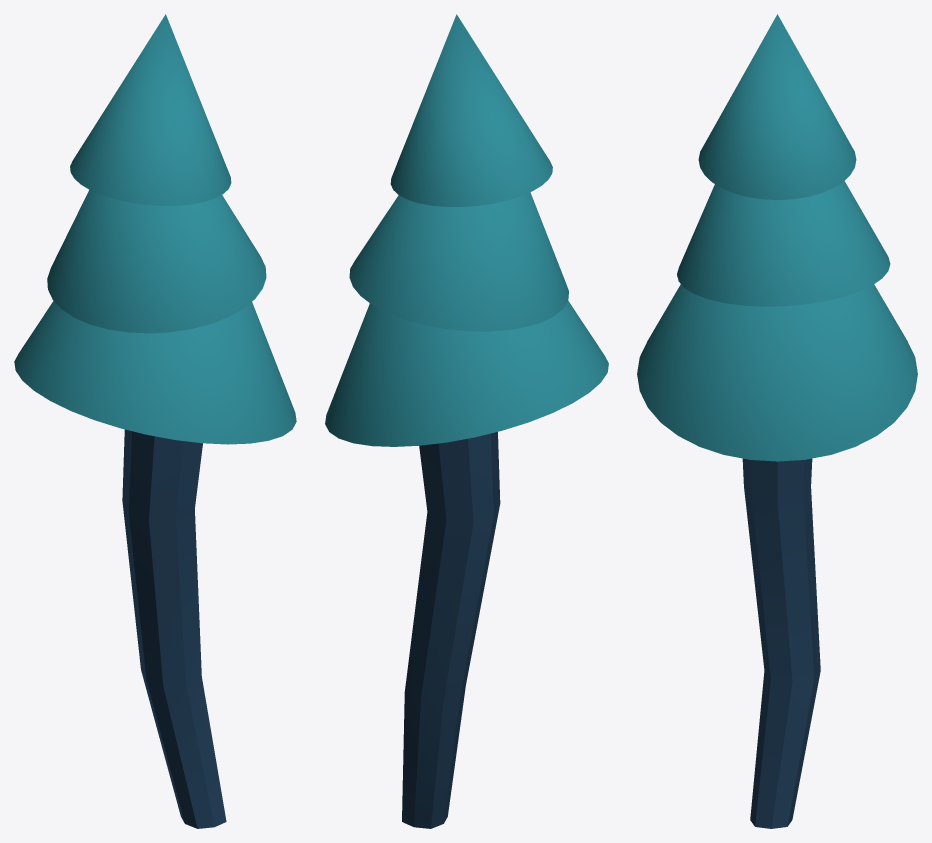
The model's file is Arbre1.fbx.
3 views of the same model, side by side, from view 1: azimuth 30°, elevation 25°; view 2: azimuth 150°, elevation 25°; view 3: azimuth 270°, elevation 25° (orthographic). The views are drawn at different scales.
Parts seen in each view (by area): view 1: Cone.002; view 2: Cone.002; view 3: Cone.002.
Part boxes in pixels (left/top/right/bottom): Cone.002: left=14, top=14, right=296, bottom=828; Cone.002: left=325, top=14, right=608, bottom=828; Cone.002: left=637, top=14, right=917, bottom=828.
Size of the model in its own units: 60.83 by 194 by 62.56.
